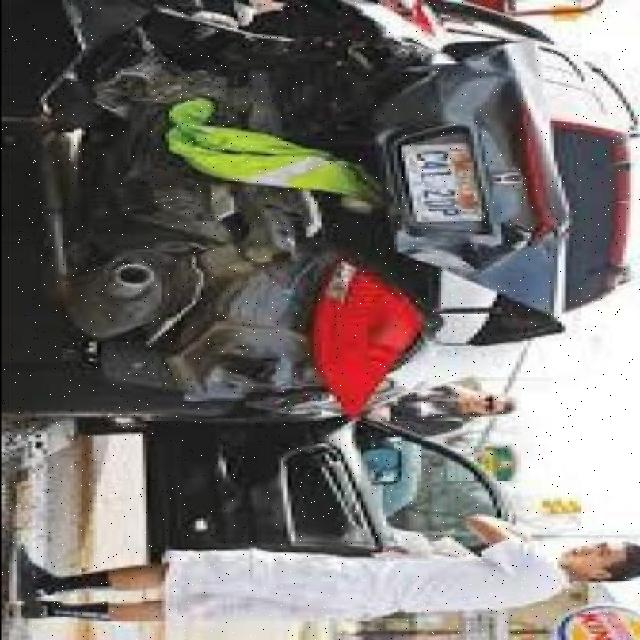damage: (38, 3, 560, 400)
